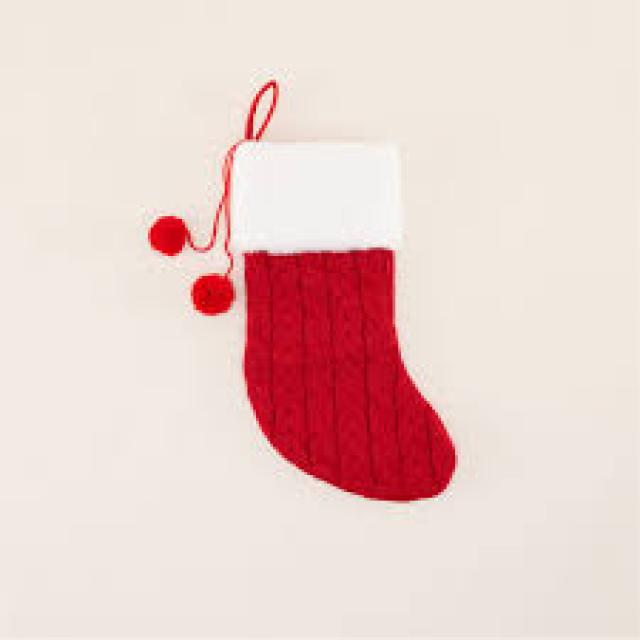sock: (225, 137, 455, 500)
